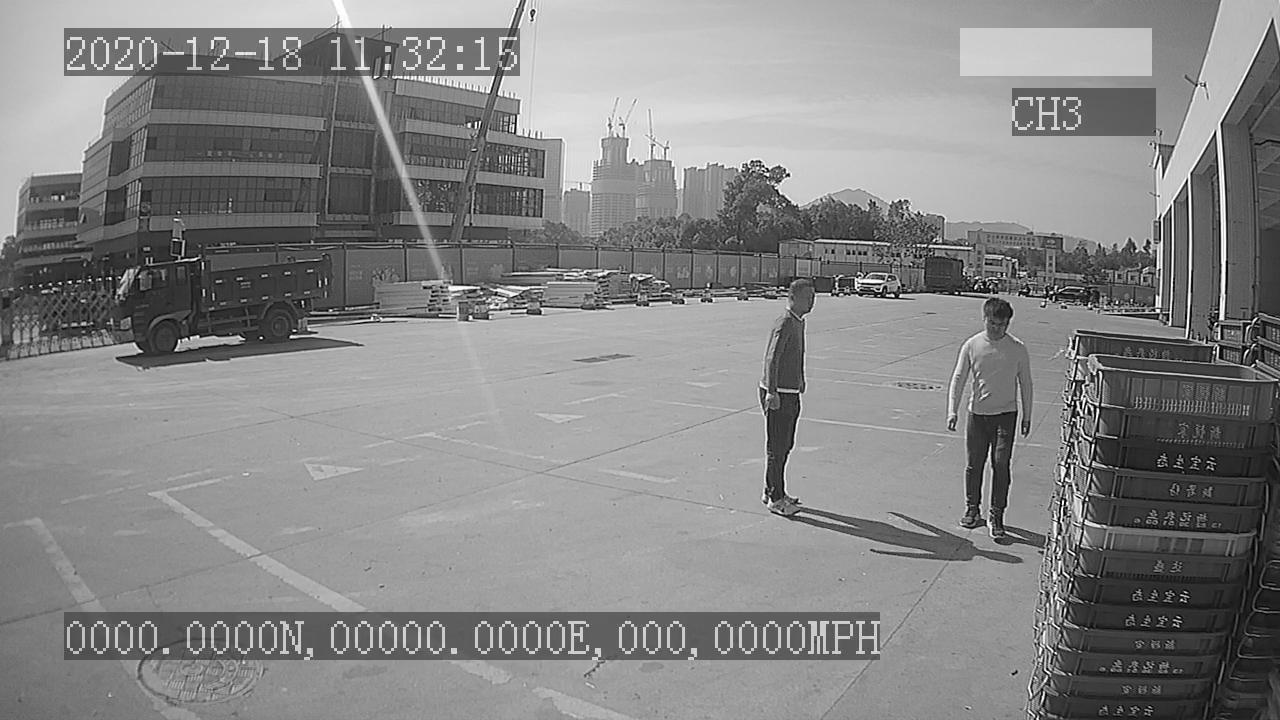person: (941, 294, 1033, 541), (751, 274, 824, 519)
